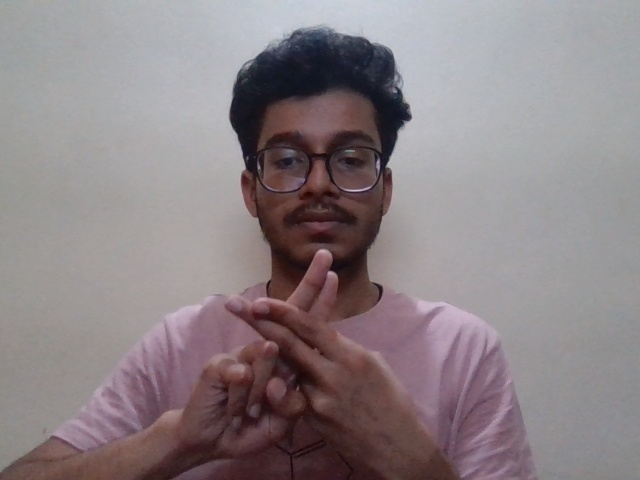disabled: (175, 249, 440, 472)
